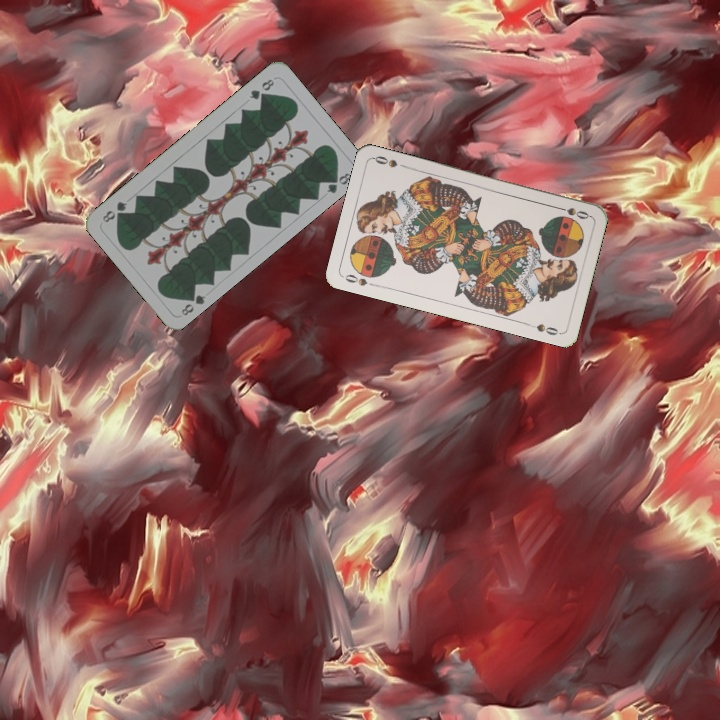G8: (177, 288, 208, 318), (245, 75, 277, 102)
SO: (552, 202, 592, 222), (341, 270, 380, 289)
